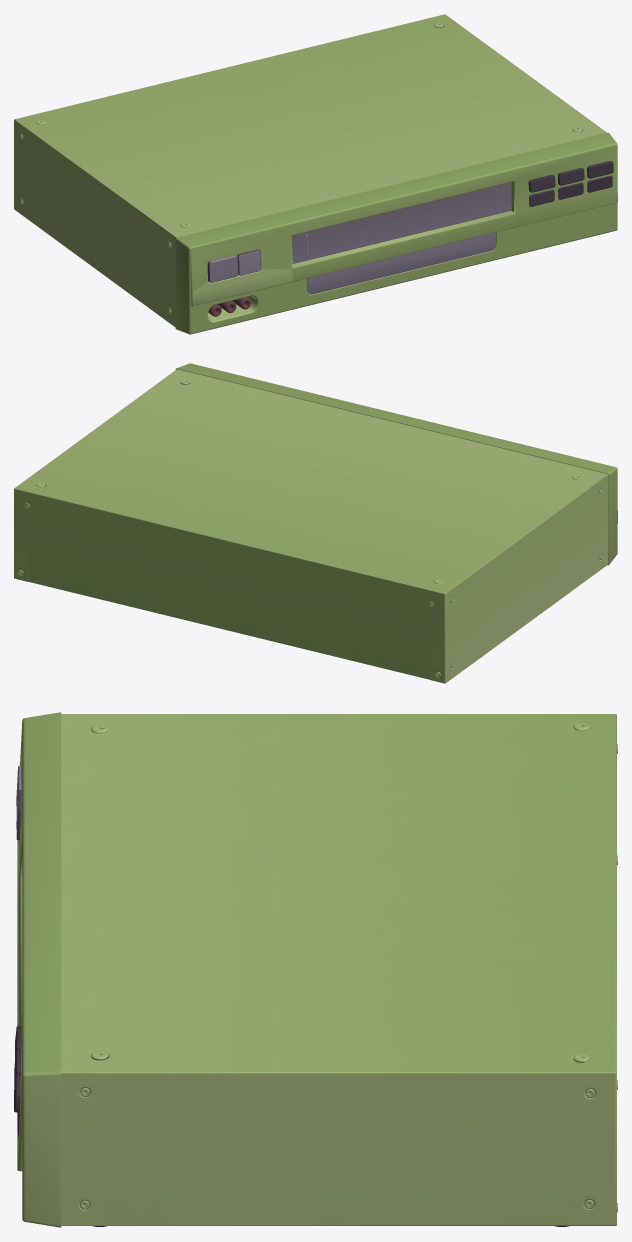
Rendered from SM_CDplayer.fbx.
3 views of the same model, one above another, from view 1: azimuth 30°, elevation 25°; view 2: azimuth 150°, elevation 25°; view 3: azimuth 270°, elevation 25° (orthographic). The views are drawn at different scales.
Parts seen in each view (by area): view 1: SM_CDPlayer; view 2: SM_CDPlayer; view 3: SM_CDPlayer.
Boxes of the visible parts, x1,y1,x2,y2 form: SM_CDPlayer: (14,14,617,334); SM_CDPlayer: (14,363,617,683); SM_CDPlayer: (14,712,617,1227).
Bounding box in the file's own units: 37.19 × 8.14 × 26.31.
Materials: 2 (2 with a texture image).
